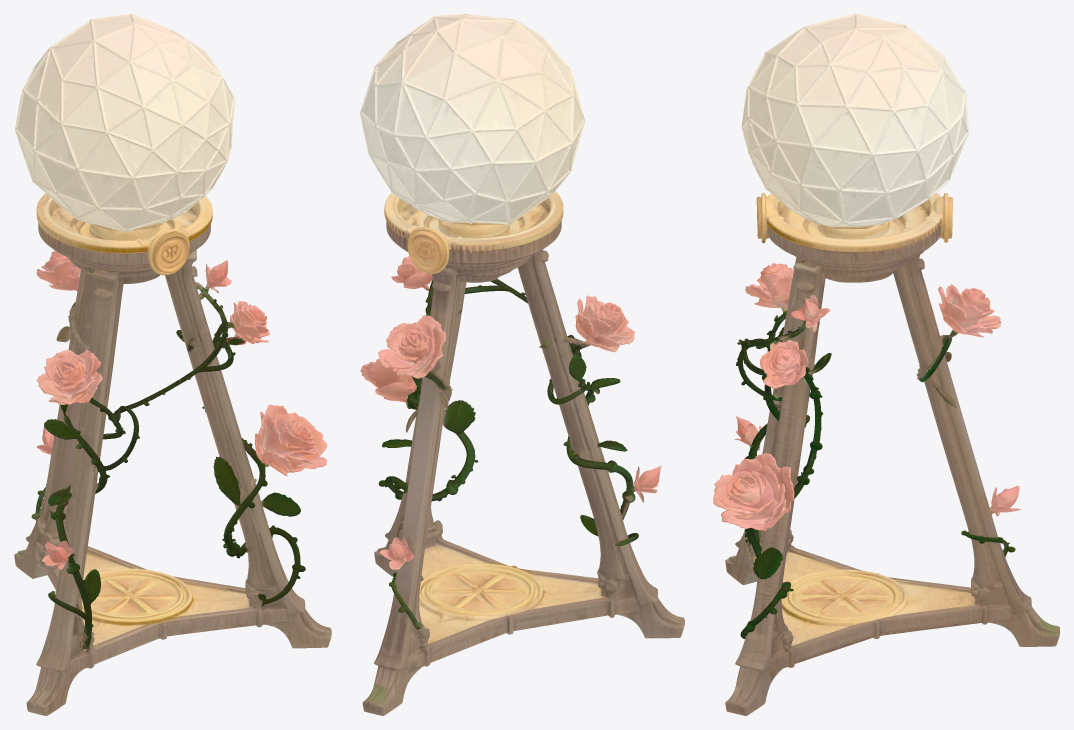
Rendered from scholar-gazebo.glb.
3 renders of one model, left to right at view 1: azimuth 30°, elevation 25°; view 2: azimuth 150°, elevation 25°; view 3: azimuth 270°, elevation 25°, orthographic.
Size of the model in its own units: 1.04 by 2 by 1.01.
1 material, 1 textured.
